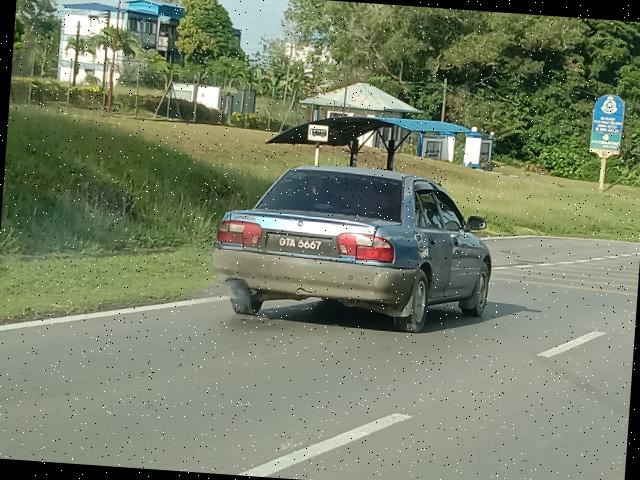License_Plate: (268, 234, 332, 256)
